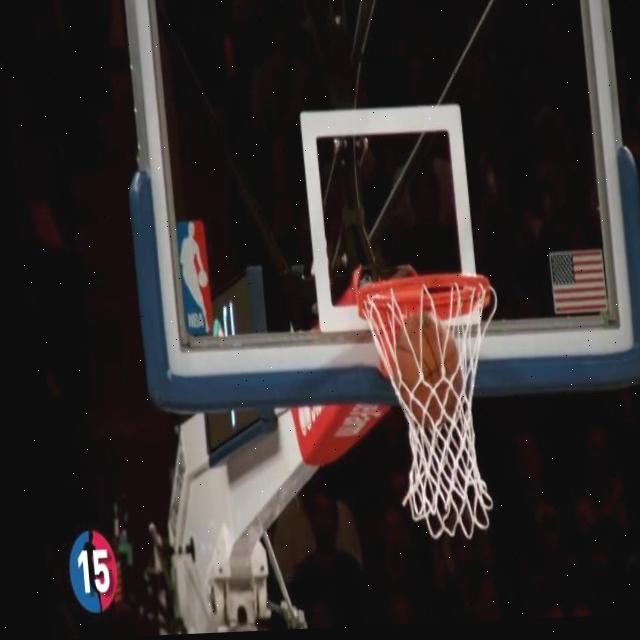Goal: (388, 313, 469, 425)
